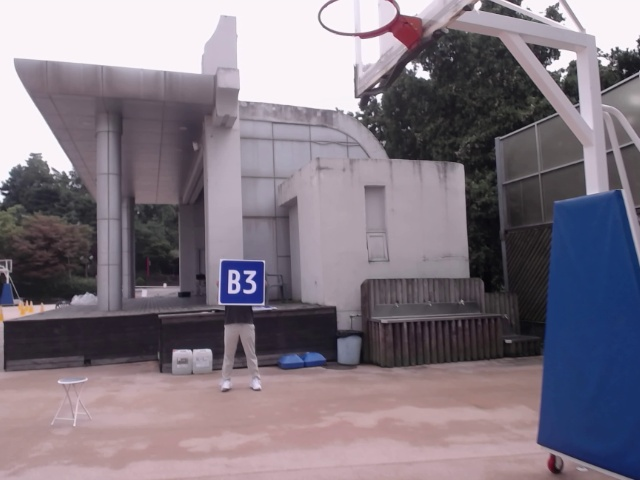delivery_b3: (218, 259, 264, 305)
